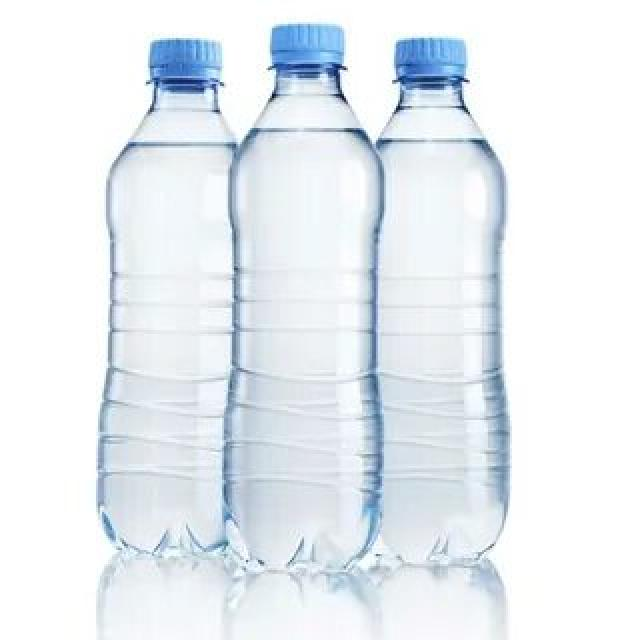blue: (227, 60, 383, 570), (383, 83, 510, 560), (102, 75, 223, 555)
